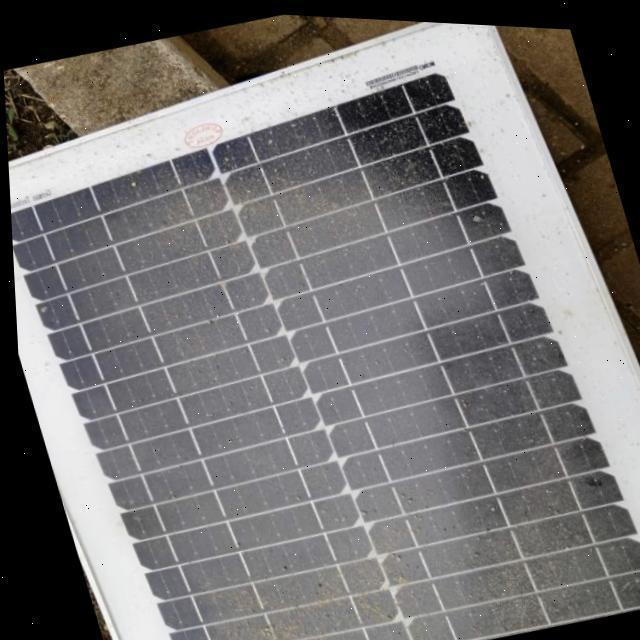Surface Contaminant: (8, 102, 640, 640)
